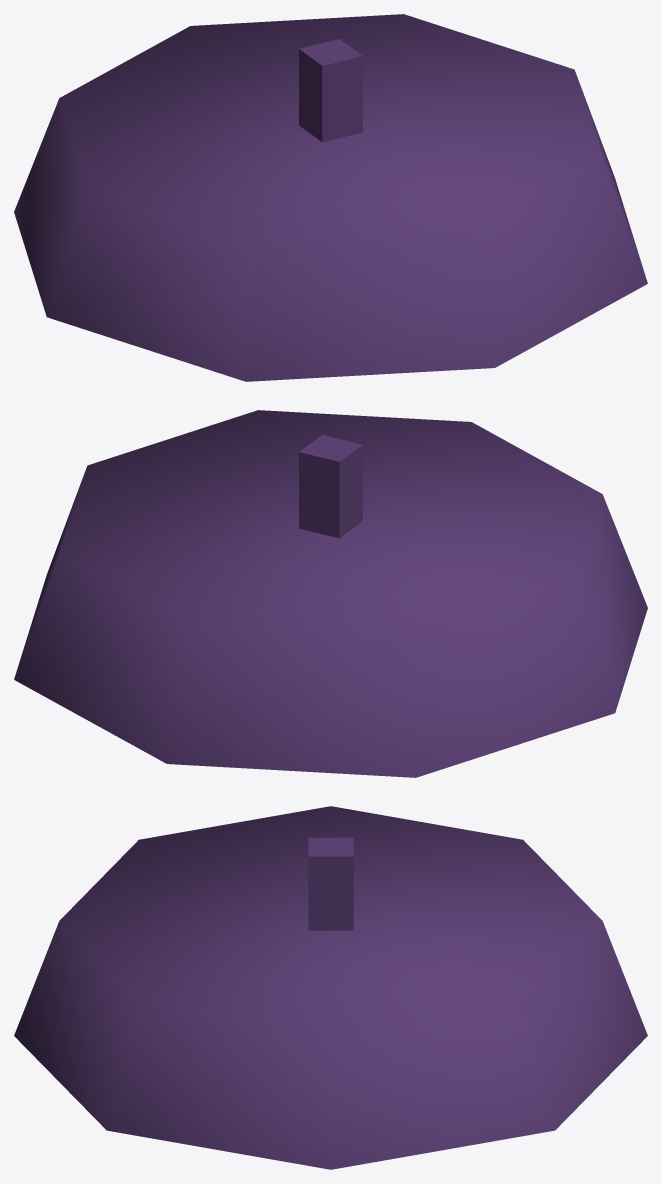
File: hat_beret.glb
3 views of the same model, one above another, from view 1: azimuth 30°, elevation 25°; view 2: azimuth 150°, elevation 25°; view 3: azimuth 270°, elevation 25° (orthographic). The views are drawn at different scales.
Parts seen in each view (by area): view 1: hat_beret; view 2: hat_beret; view 3: hat_beret.
Part boxes in pixels (x1=…): hat_beret: x1=14, y1=14, x2=647, y2=381; hat_beret: x1=14, y1=410, x2=647, y2=777; hat_beret: x1=14, y1=806, x2=647, y2=1169.
Size of the model in its own units: 0.189 by 0.0621 by 0.189.
